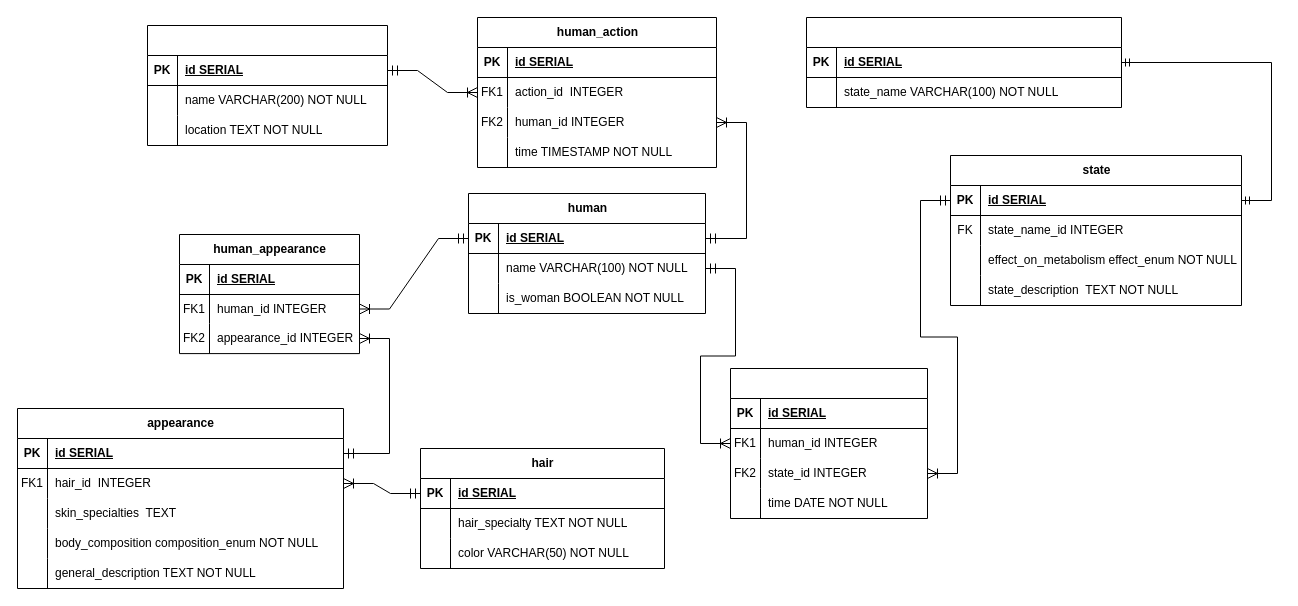
This 1298x606 diagram has some shape labels left out. The box of each missing label's shape, as (x1, y1, x2, y2) in pixels:
action: (146, 24, 388, 146)
human_state: (730, 368, 928, 518)
state_id: (806, 16, 1122, 108)
